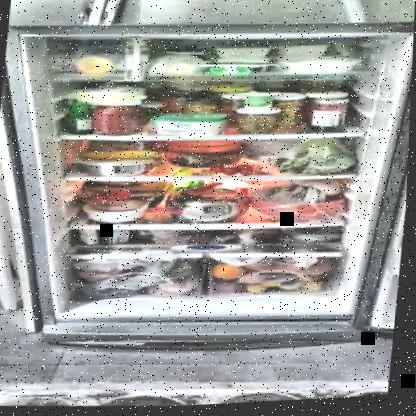banana: (81, 147, 164, 164)
cheese: (159, 112, 230, 139), (82, 87, 140, 106)
cream_cheese: (203, 61, 269, 77)
lemon: (247, 285, 270, 295)
lettuce: (277, 141, 352, 179)
mineral_water: (63, 97, 96, 136)
orange: (215, 264, 251, 283)
tomato: (91, 189, 134, 207), (213, 165, 254, 179)
tomato_paste: (95, 100, 149, 138)
yoghurt: (243, 93, 276, 116)
